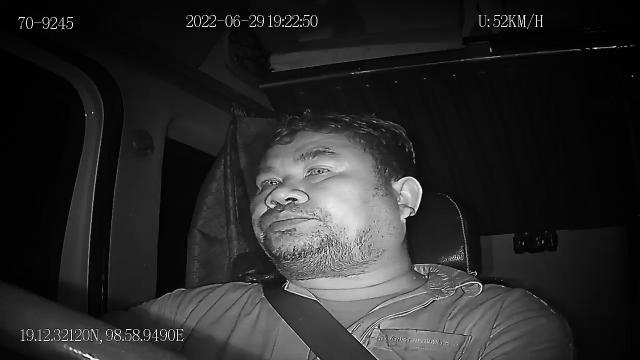SafeDriving: (301, 155, 340, 183), (252, 168, 288, 196)
Seatbelt: (262, 274, 382, 360)
